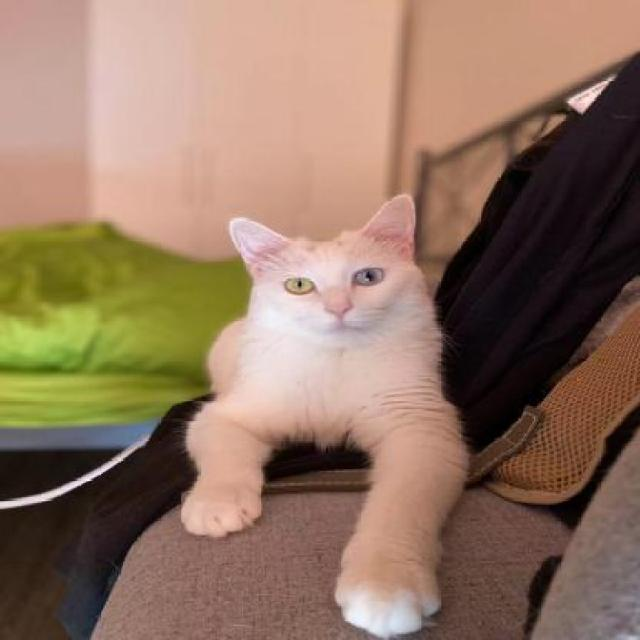cat-face: (200, 193, 462, 344)
